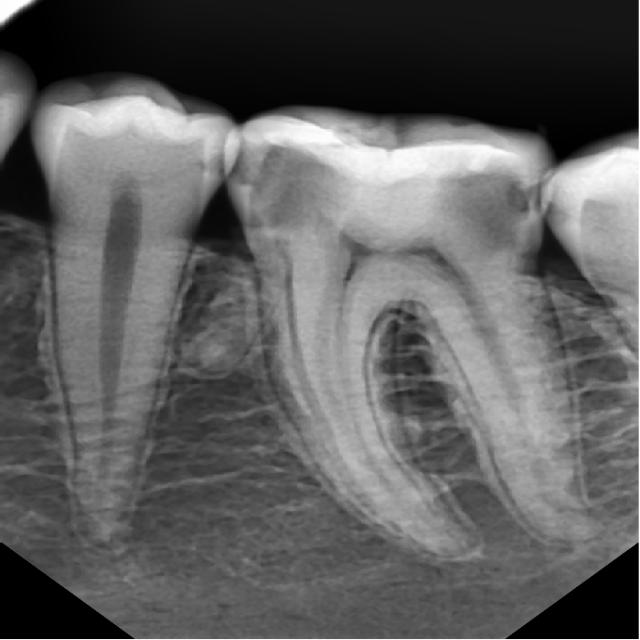Caries: (231, 105, 550, 567)
